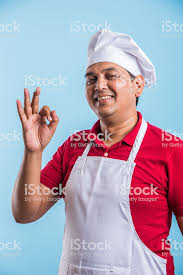Indian_Male: (78, 56, 134, 123)
